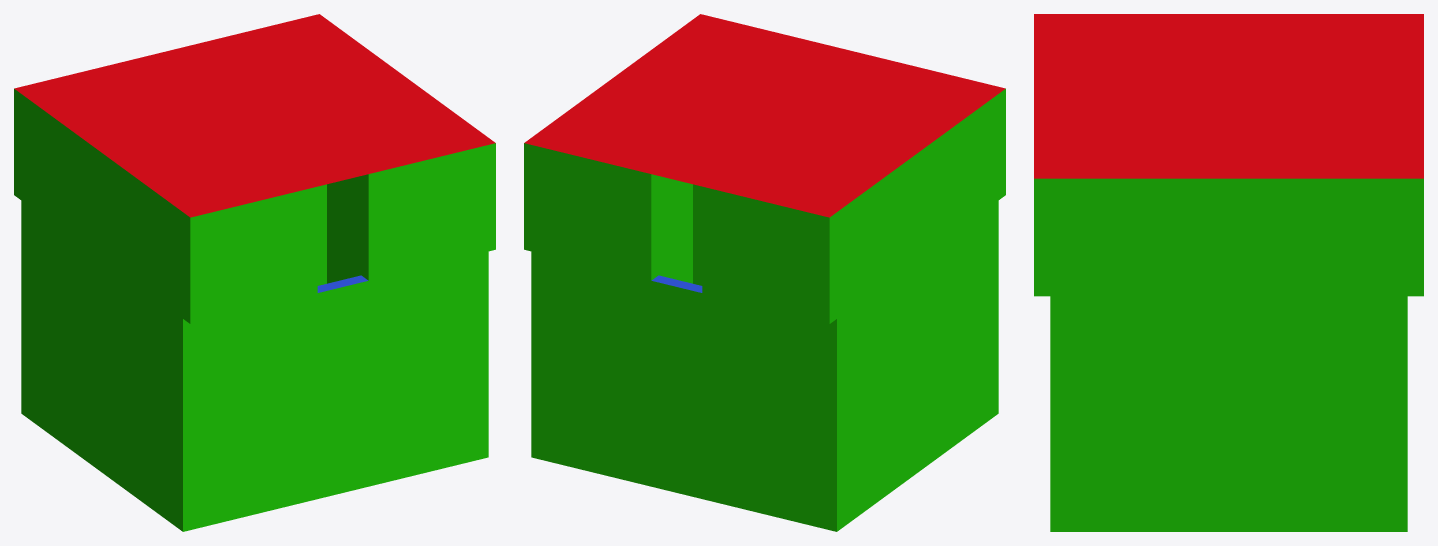
Rendered from 3x3_Room_Deep.fbx.
3 renders of one model, left to right at view 1: azimuth 30°, elevation 25°; view 2: azimuth 150°, elevation 25°; view 3: azimuth 270°, elevation 25°, orthographic. The views are drawn at different scales.
Visible parts, largest first — view 1: 3x3 Room Deep; view 2: 3x3 Room Deep; view 3: 3x3 Room Deep.
Part boxes in pixels (x1=…): 3x3 Room Deep: x1=14, y1=14, x2=495, y2=531; 3x3 Room Deep: x1=524, y1=14, x2=1005, y2=531; 3x3 Room Deep: x1=1034, y1=14, x2=1423, y2=531.
Bounding box in the file's own units: 2400 × 2400 × 2400.
